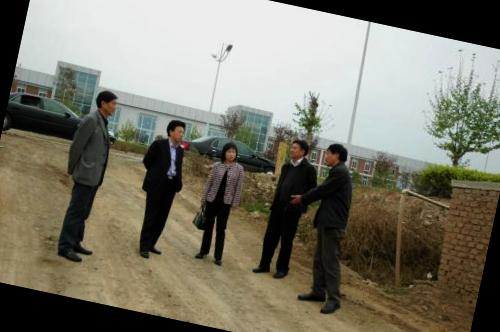no_helmet: (91, 84, 122, 120), (322, 140, 354, 172), (162, 118, 192, 149), (217, 138, 246, 167), (286, 136, 312, 163)
